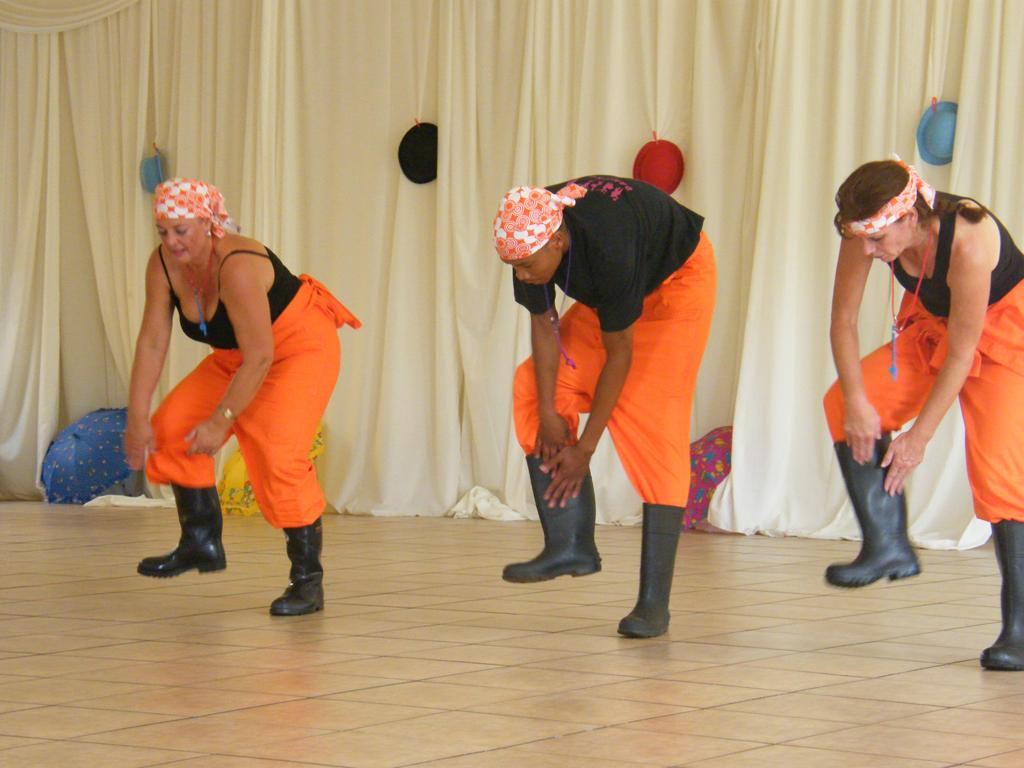face: (846, 200, 906, 262), (498, 235, 561, 286), (156, 218, 201, 264)
